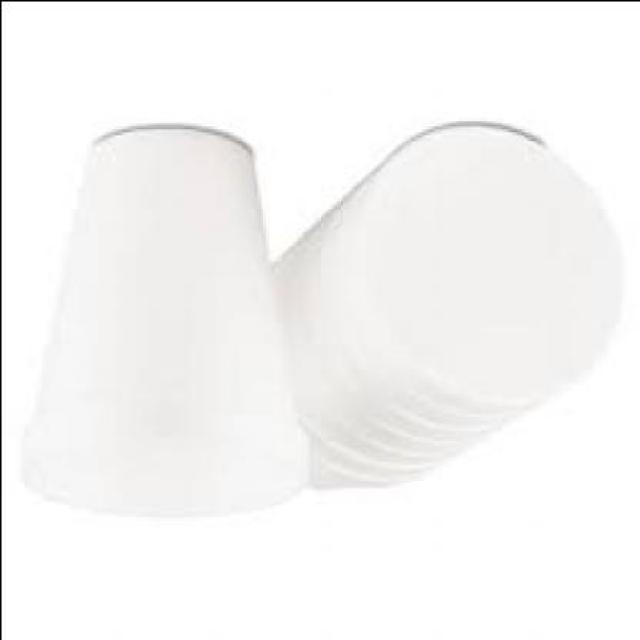PAPER: (262, 122, 620, 495), (20, 128, 302, 512)
